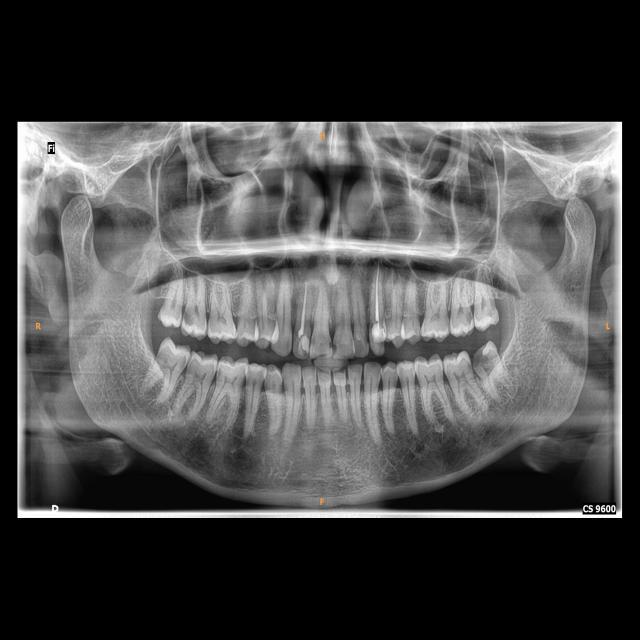dentin-curugu: (472, 350, 491, 370), (182, 308, 195, 330), (354, 335, 364, 354), (332, 341, 340, 357)
dolgu: (292, 336, 310, 359), (372, 323, 386, 346)
kanal-tedavisi: (372, 268, 384, 323), (298, 283, 309, 336)
